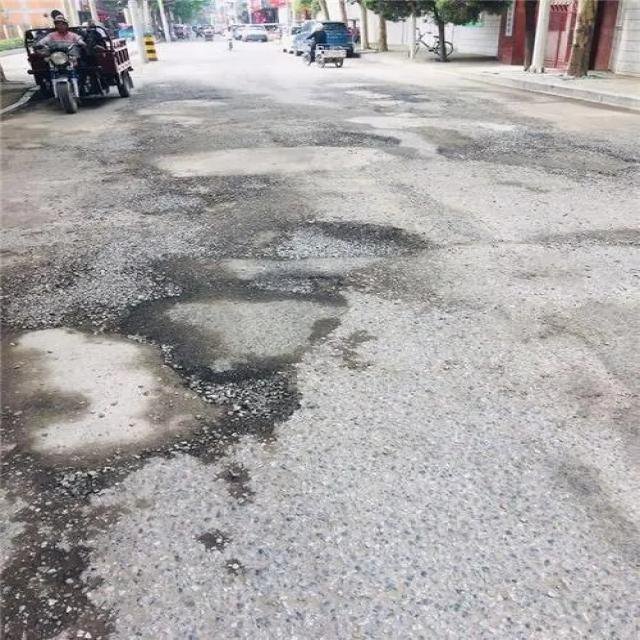Pothole: (10, 320, 275, 487), (143, 213, 429, 281), (148, 128, 400, 180), (462, 142, 639, 185), (134, 98, 216, 122)
